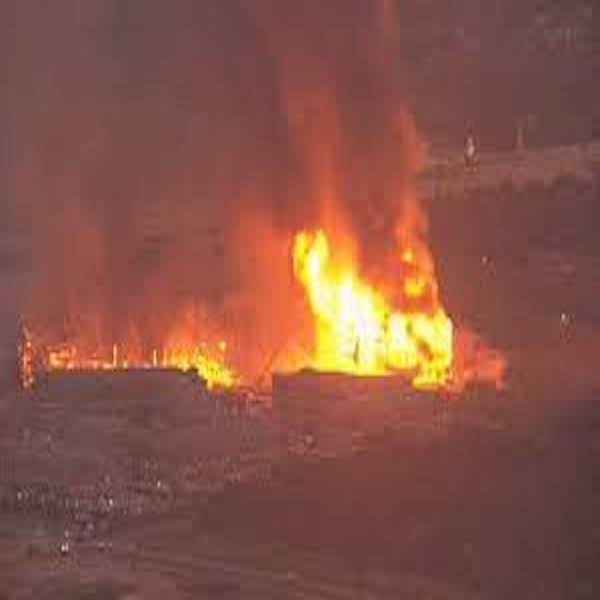fire: (295, 199, 456, 373), (42, 323, 275, 374)
